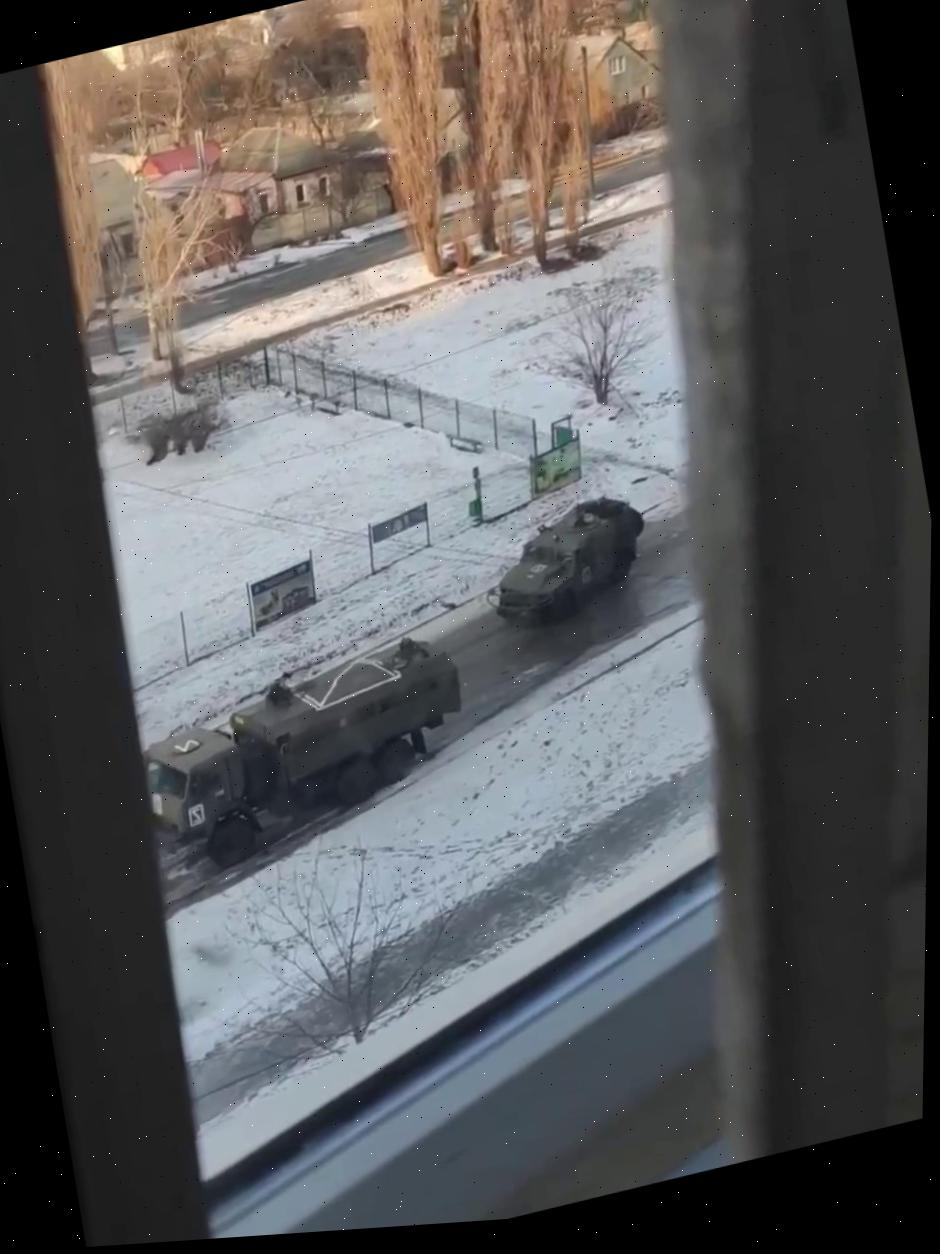armored_car: (477, 486, 655, 634)
truck: (128, 621, 481, 887)
